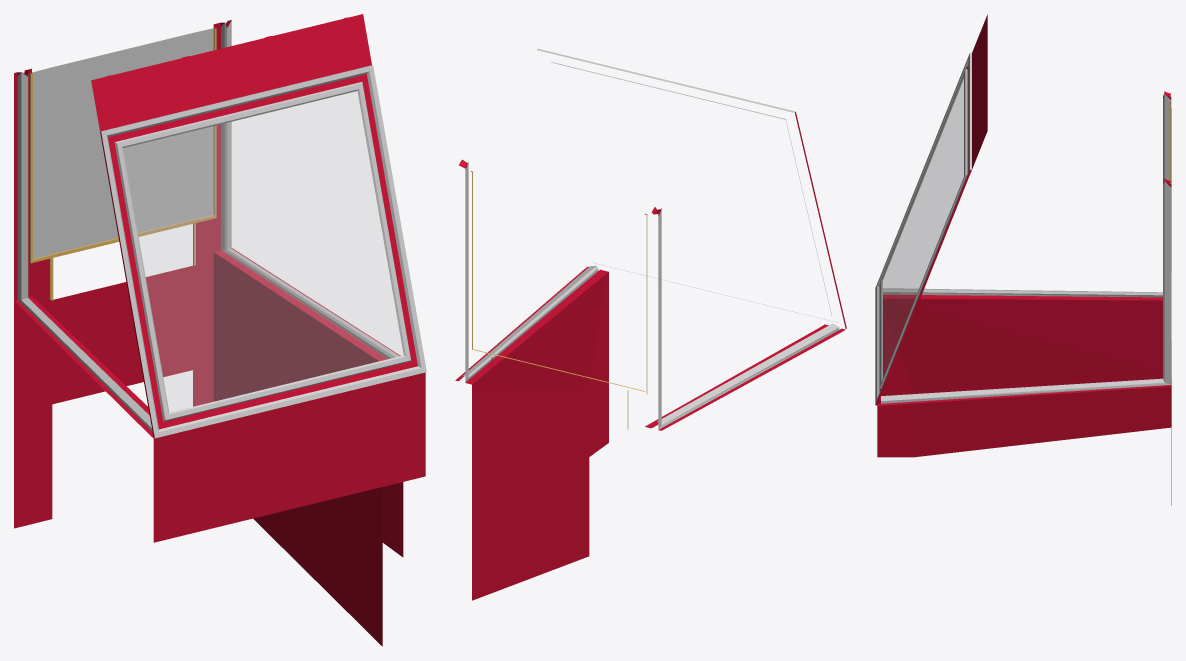
File: cabinet.gltf
3 views of the same model, side by side, from view 1: azimuth 30°, elevation 25°; view 2: azimuth 150°, elevation 25°; view 3: azimuth 270°, elevation 25° (orthographic). The views are drawn at different scales.
Bounding box in the file's own units: 20 × 41.96 × 21.42.
